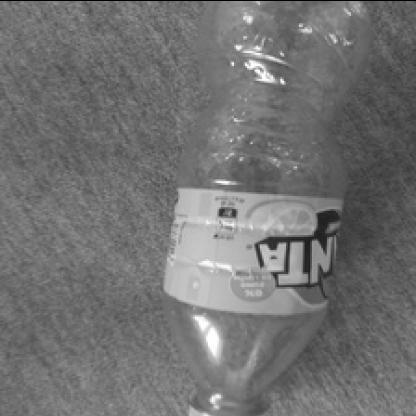plastic_bottles: (156, 0, 375, 413)
